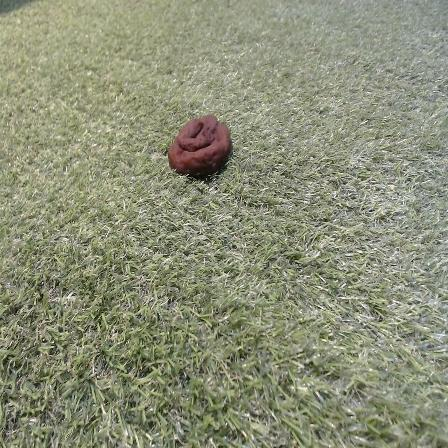dog-poop: (170, 112, 230, 176)
